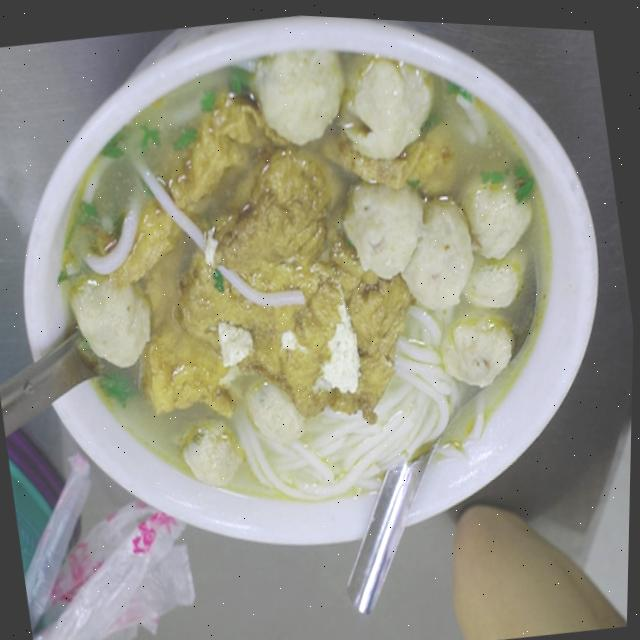熟制海鲜: (0, 0, 626, 584)
